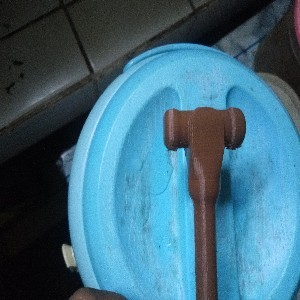palu: (162, 105, 246, 300)
